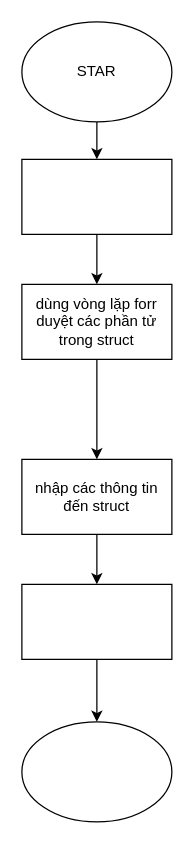
This 194x844 diagram has some shape labels left out. Here are the shapes that lost their labels. From the top down, the centre of each, then its label:
(96,196): tạo ra struct sinh viên gồm cá yếu tố như đề
(96,621): mở file chọn mode đọc và dùng hàm fputs nhậ dữ liệu vào file từ chương trình
